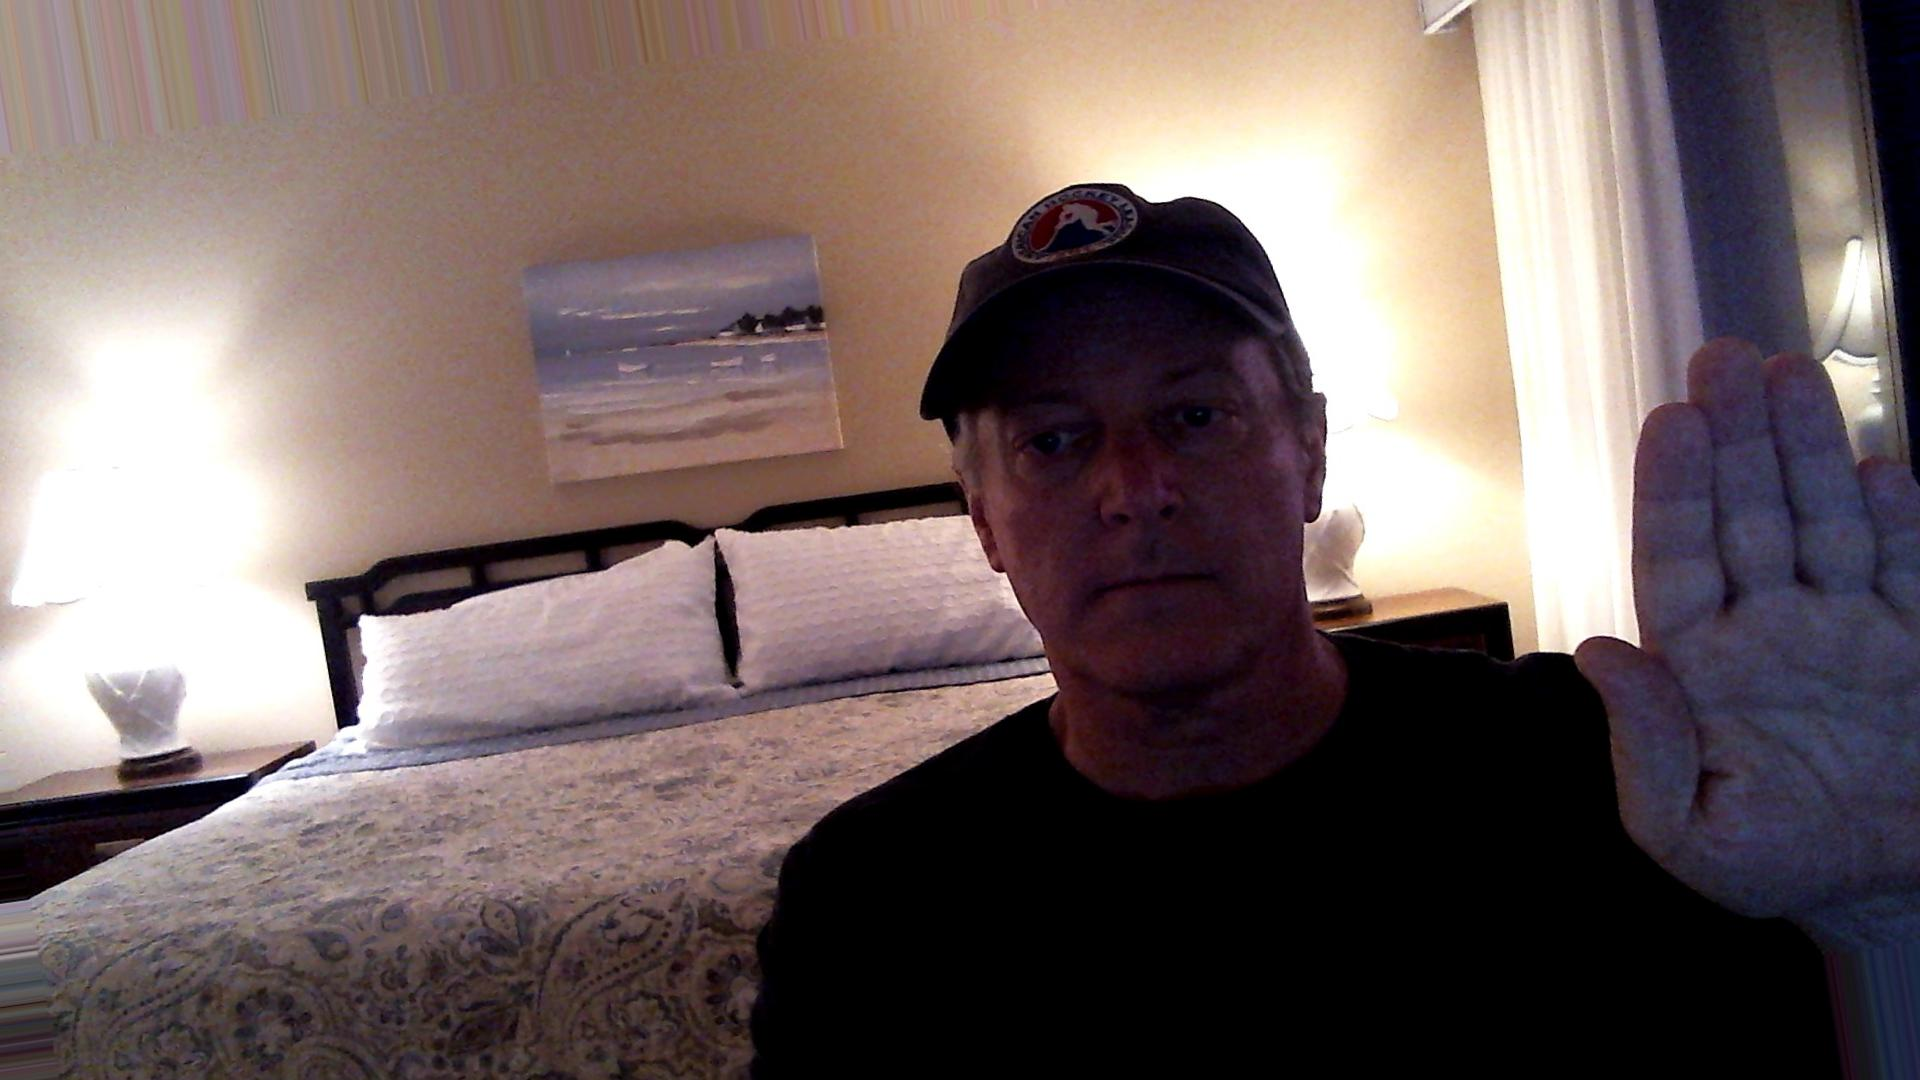Hello: (1557, 316, 1919, 949)
